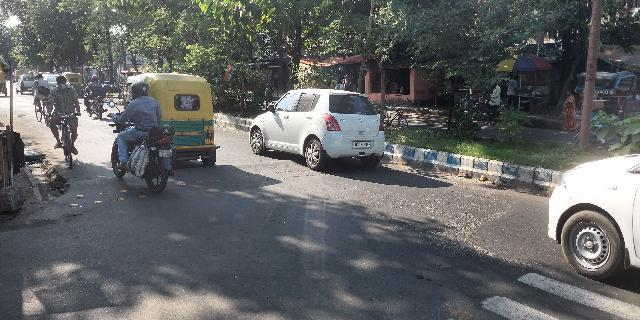Autorickshaw: (145, 71, 222, 171)
Car: (542, 141, 640, 285), (246, 86, 387, 175)
Cycle: (44, 72, 84, 175)
Motorbike: (106, 79, 174, 198), (83, 74, 106, 121)
